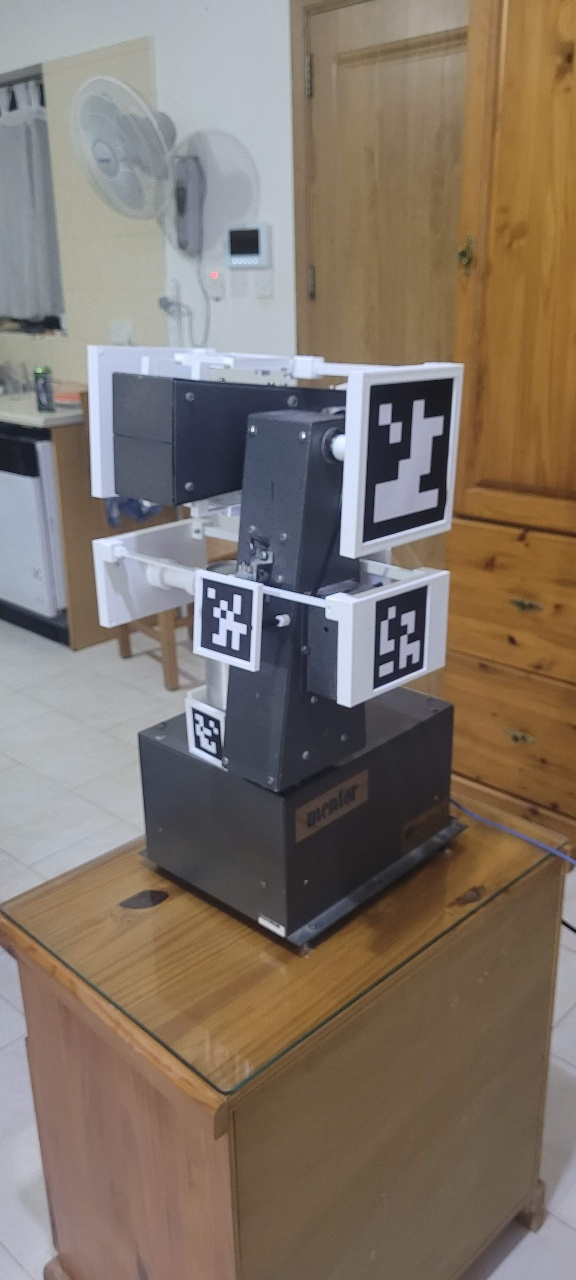Robot: (84, 343, 468, 796)
